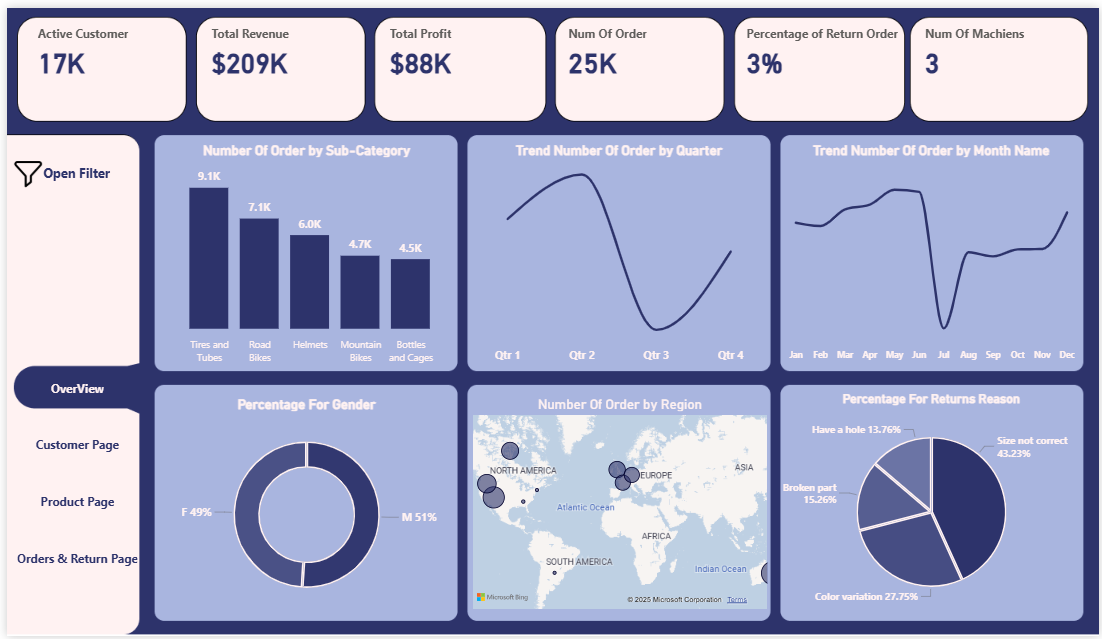

What the dashboard file says about the page in this screenshot:
{"tool":"powerbi","page":{"name":"OverView","canvas":[1366,786],"ordinal":0},"visuals":[{"type":"cardVisual","fields":{"Data":["_DAX_Measure.Active Customer","_DAX_Measure.Total Revenue","_DAX_Measure.Total Profit","_DAX_Measure.Num Of Order","_DAX_Measure.Percentage of Return Order","_DAX_Measure.Num Of Machiens"]},"box":[17.5,10,1348.8,132.5],"z":0},{"type":"actionButton","box":[0,183.3,167.8,45.6],"z":0,"group":"g1"},{"type":"lineChart","title":"Trend Number Of Order by Quarter","fields":{"Y":["_DAX_Measure.Num Of Order"],"Category":["Date_Dim.Year","Date_Dim.Quarter"]},"box":[583.7,162.6,363,289.4],"z":1000},{"type":"image","box":[0,181.1,52.2,51.1],"z":1000,"group":"g1"},{"type":"pieChart","title":"Percentage For Returns Reason ","fields":{"Category":["Return.Complaint Description"],"Y":["_DAX_Measure.Num Of Return Product"]},"box":[968.9,473.3,373.6,289.4],"z":2000},{"type":"donutChart","title":"Percentage For Gender","fields":{"Y":["_DAX_Measure.All Customer"],"Category":["Customers.Gender"]},"box":[188.8,480.1,371.7,282.7],"z":3000},{"type":"columnChart","title":"Number Of Order by Sub-Category","fields":{"Category":["Product Subcategories.SubcategoryName"],"Y":["_DAX_Measure.Num Of Order"]},"box":[188.8,162.6,371.7,289.4],"z":4000},{"type":"map","title":"Number Of Order by Region","fields":{"Category":["Territories.Region"],"Size":["_DAX_Measure.Num Of Order"]},"box":[576.9,480.1,377.5,275.9],"z":5000},{"type":"lineChart","title":"Trend Number Of Order by Month Name","fields":{"Y":["_DAX_Measure.Num Of Order"],"Category":["Date_Dim.Month Name"]},"box":[968.9,162.6,373.6,289.4],"z":6000},{"type":"pageNavigator","box":[0,444.3,168,274],"z":8000},{"type":"group","id":"g1","title":"Group 1","box":[0,181.1,167.8,51.1],"z":9000}]}

Visuals, with their boxes in screenshot pixels (x1, y1, x2, y2), scaled from the page's 1366x786 canvas onto the 1102x639 screenshot:
cardVisual - _DAX_Measure.Active Customer x _DAX_Measure.Total Revenue: box(14, 8, 1101, 116)
actionButton: box(0, 149, 135, 186)
"Trend Number Of Order by Quarter" lineChart: box(471, 132, 764, 367)
image: box(0, 147, 42, 189)
"Percentage For Returns Reason " pieChart: box(782, 385, 1083, 620)
"Percentage For Gender" donutChart: box(152, 390, 452, 620)
"Number Of Order by Sub-Category" columnChart: box(152, 132, 452, 367)
"Number Of Order by Region" map: box(465, 390, 770, 615)
"Trend Number Of Order by Month Name" lineChart: box(782, 132, 1083, 367)
pageNavigator: box(0, 361, 136, 584)
"Group 1" group: box(0, 147, 135, 189)
